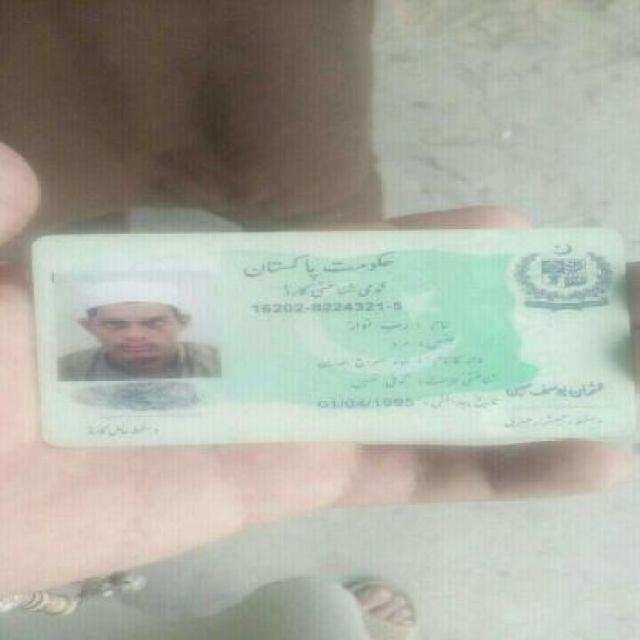Front: (18, 218, 631, 452)
